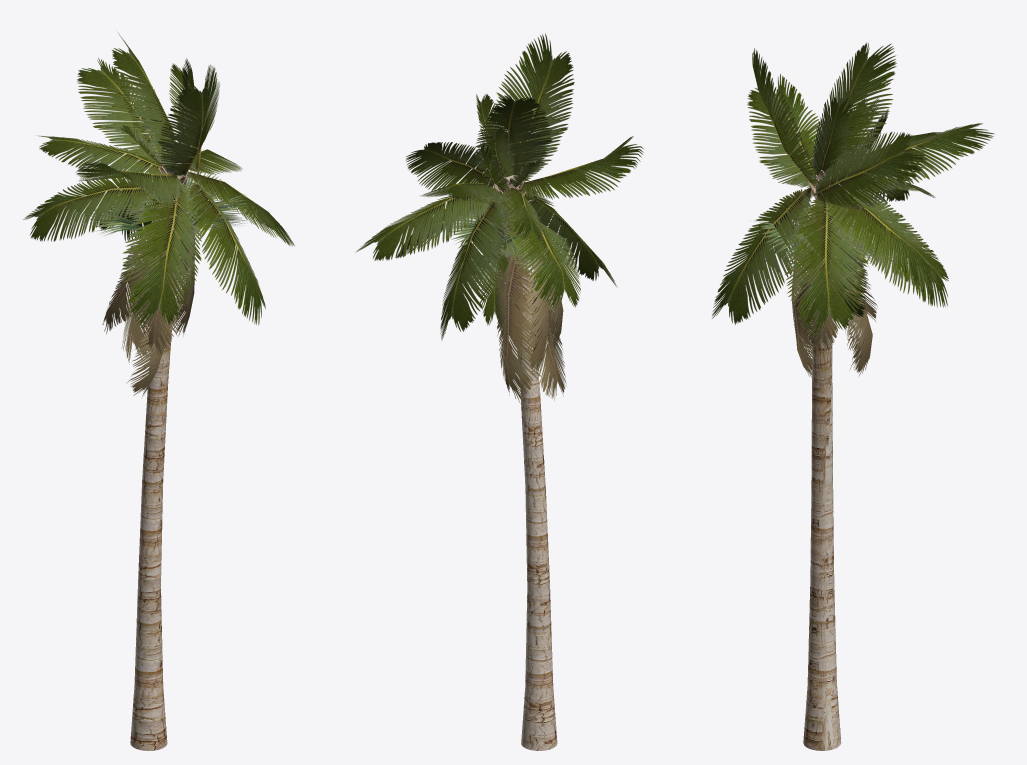
The model's file is palm-model.glb.
3 renders of one model, left to right at view 1: azimuth 30°, elevation 25°; view 2: azimuth 150°, elevation 25°; view 3: azimuth 270°, elevation 25°, orthographic. The views are drawn at different scales.
Parts seen in each view (by area): view 1: Object_4, Object_5, Object_2, Object_3; view 2: Object_4, Object_5, Object_2, Object_3; view 3: Object_4, Object_5, Object_2, Object_3.
Part boxes in pixels (x1=…): Object_4: x1=23, y1=32, x2=294, y2=329; Object_5: x1=130, y1=150, x2=190, y2=750; Object_2: x1=102, y1=209, x2=195, y2=397; Object_3: x1=88, y1=171, x2=248, y2=239; Object_4: x1=356, y1=33, x2=644, y2=340; Object_5: x1=494, y1=167, x2=557, y2=750; Object_2: x1=496, y1=227, x2=566, y2=403; Object_3: x1=451, y1=192, x2=565, y2=291; Object_4: x1=712, y1=42, x2=994, y2=340; Object_5: x1=803, y1=170, x2=841, y2=750; Object_2: x1=791, y1=212, x2=877, y2=377; Object_3: x1=754, y1=193, x2=893, y2=268.
Bounding box in the file's own units: 5.04 × 12.4 × 4.88.
4 materials, 4 textured.
